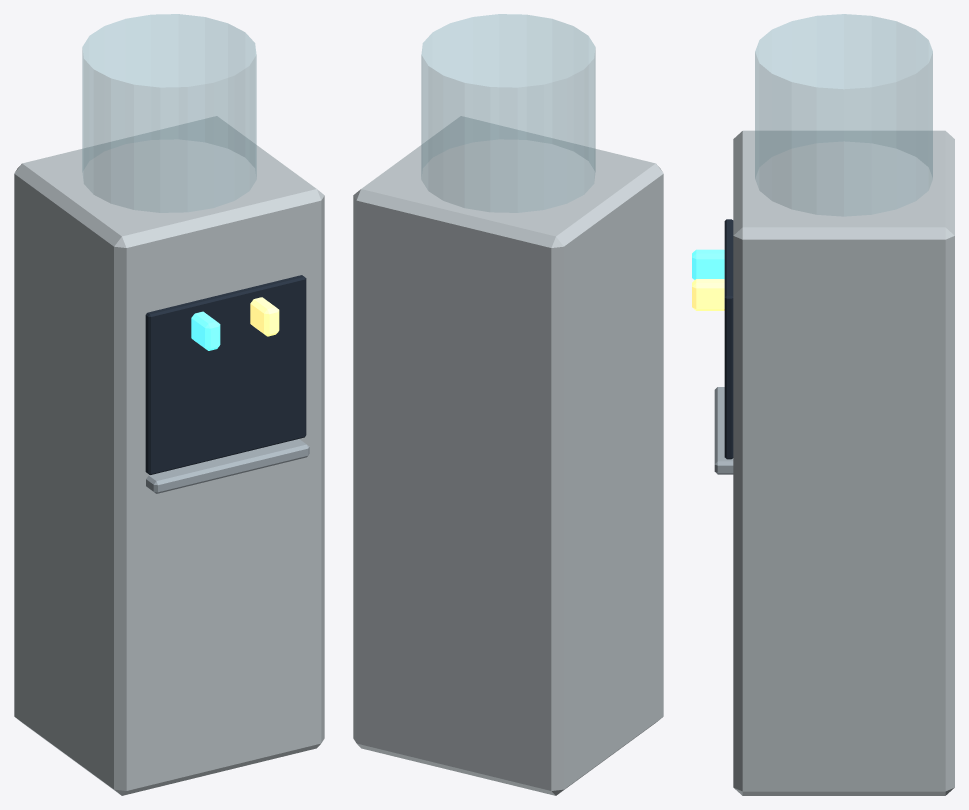
The model's file is utility_07.glb.
The picture shows the model from 3 angles, left to right: view 1: azimuth 30°, elevation 25°; view 2: azimuth 150°, elevation 25°; view 3: azimuth 270°, elevation 25°; orthographic projection.
Parts seen in each view (by area): view 1: WaterDispenser, Bottle, WaterRecess, DripTray, Tap (×2); view 2: WaterDispenser, Bottle; view 3: WaterDispenser, Bottle, WaterRecess, Tap (×2), DripTray.
Boxes of the visible parts, <box> form: WaterDispenser: <box>14,116,324,795</box>; Bottle: <box>82,14,256,212</box>; WaterRecess: <box>145,275,306,474</box>; DripTray: <box>146,439,309,493</box>; Tap (×2): <box>191,297,279,350</box>; WaterDispenser: <box>353,116,663,795</box>; Bottle: <box>421,14,595,212</box>; WaterDispenser: <box>733,130,954,795</box>; Bottle: <box>755,14,932,216</box>; WaterRecess: <box>724,219,733,459</box>; Tap (×2): <box>692,249,724,310</box>; DripTray: <box>714,387,733,474</box>.
Bounding box in the file's own units: 0.48 × 1.49 × 0.51.
